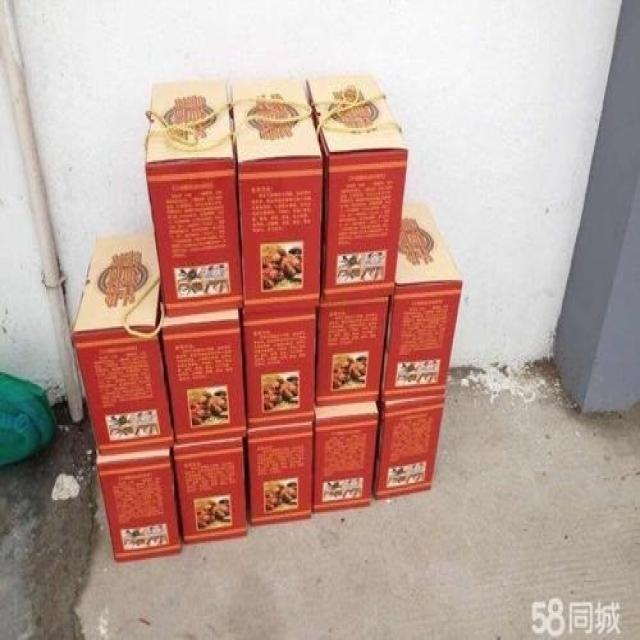box: (307, 73, 408, 305), (145, 82, 243, 319), (72, 234, 174, 457), (229, 75, 323, 312), (380, 203, 463, 403), (161, 311, 246, 445), (97, 447, 182, 561), (243, 305, 317, 427), (315, 297, 389, 408), (172, 437, 248, 544), (314, 401, 379, 515), (374, 396, 445, 500), (246, 422, 314, 526)
